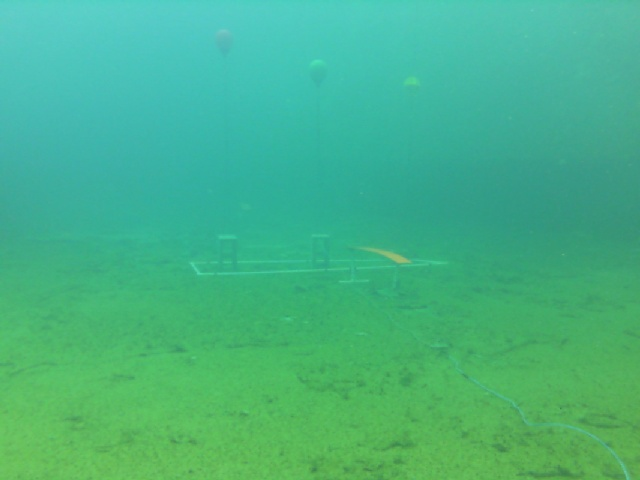buoy_green: (307, 57, 326, 88)
buoy_red: (214, 28, 232, 55)
buoy_yellow: (403, 74, 421, 96)
